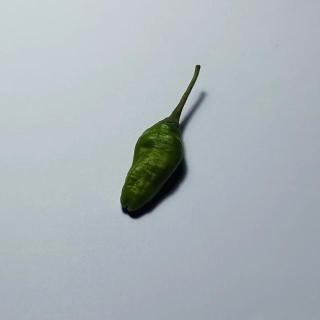Cabai Hijau: (114, 62, 210, 226)
